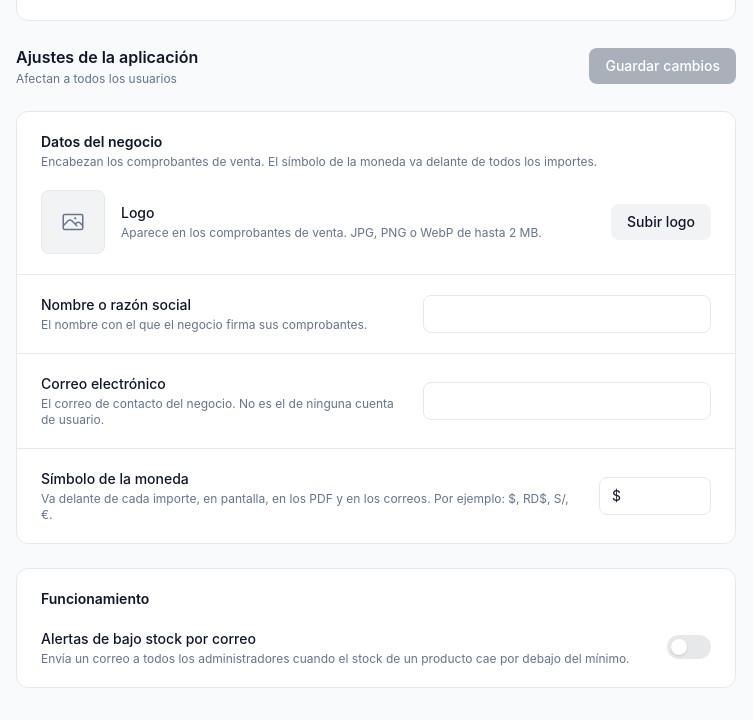
Test: SettingsPage › Datos del negocio y moneda (T6-03) › volver a un símbolo válido quita el error y deja guardar
(page scrolled)
Clear the field labelled "Símbolo de la moneda" at (655, 496), box [599,477,711,515]
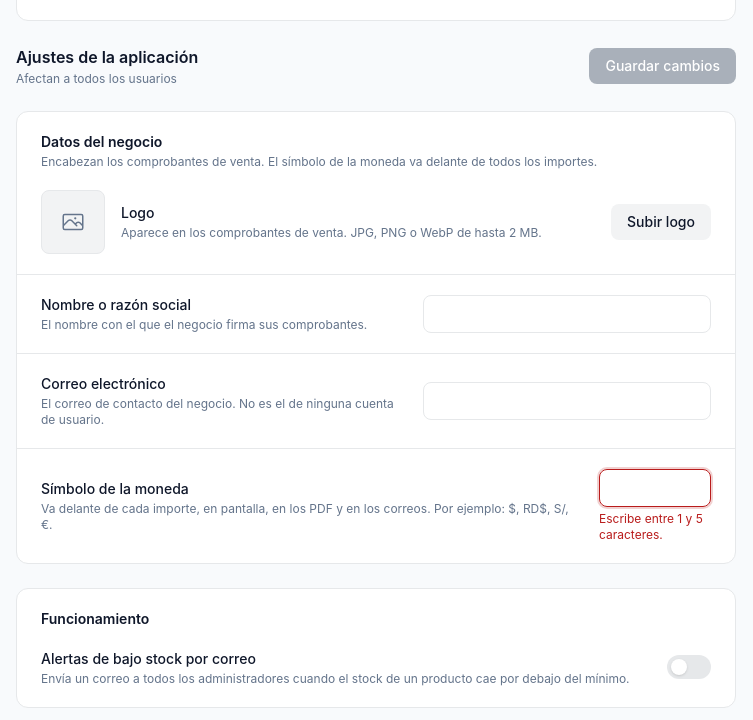
Type "S/" into the field labelled "Símbolo de la moneda".
click(655, 488); type("S/")  # box [599,469,711,507]
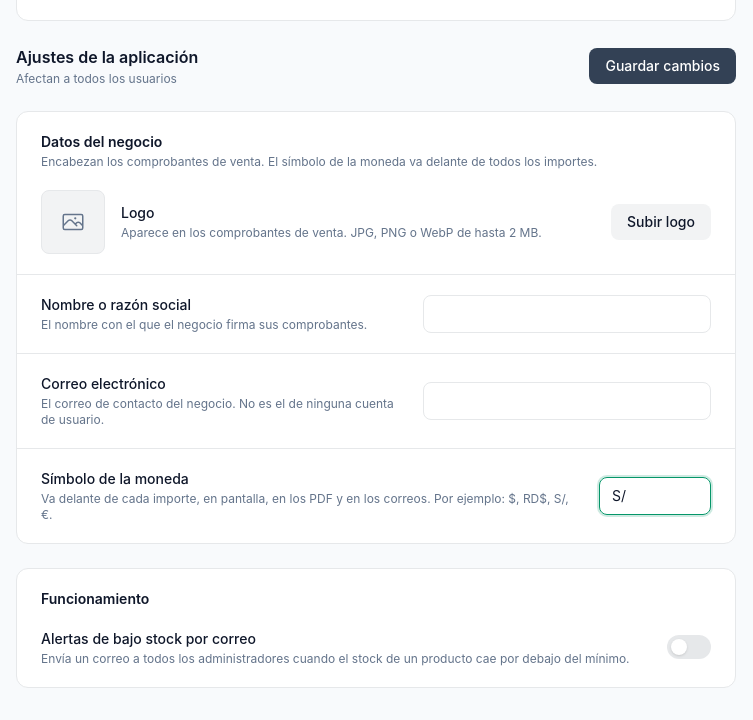
Expected: the message "Escribe entre 1 y 5 caracteres." is gone
Expected: the button "Guardar cambios" is enabled, [590,48,736,84]
